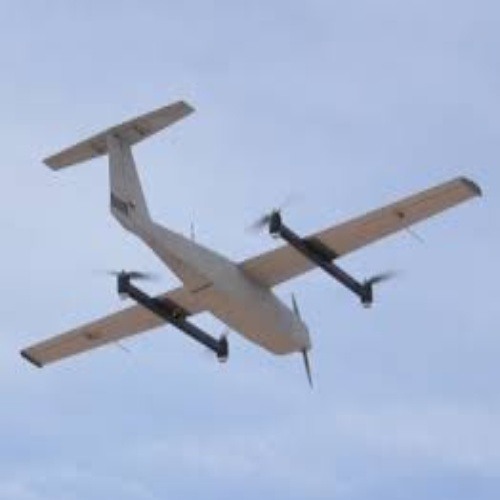uav: (21, 100, 484, 391)
